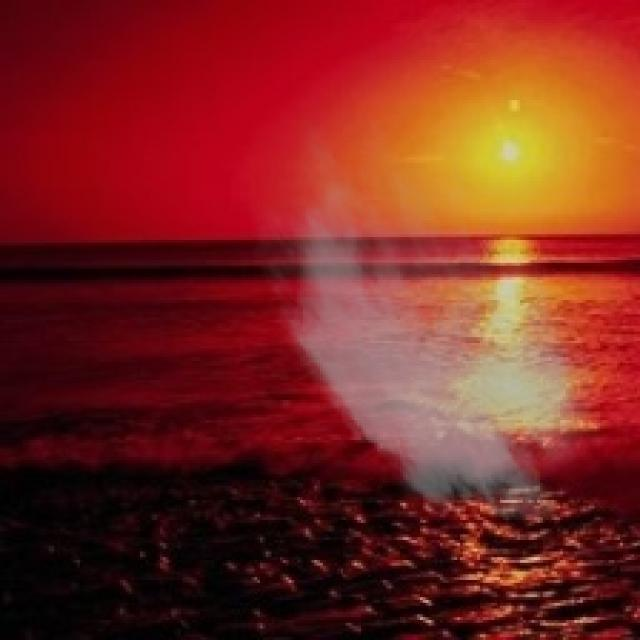Smoke: (246, 120, 614, 537)
